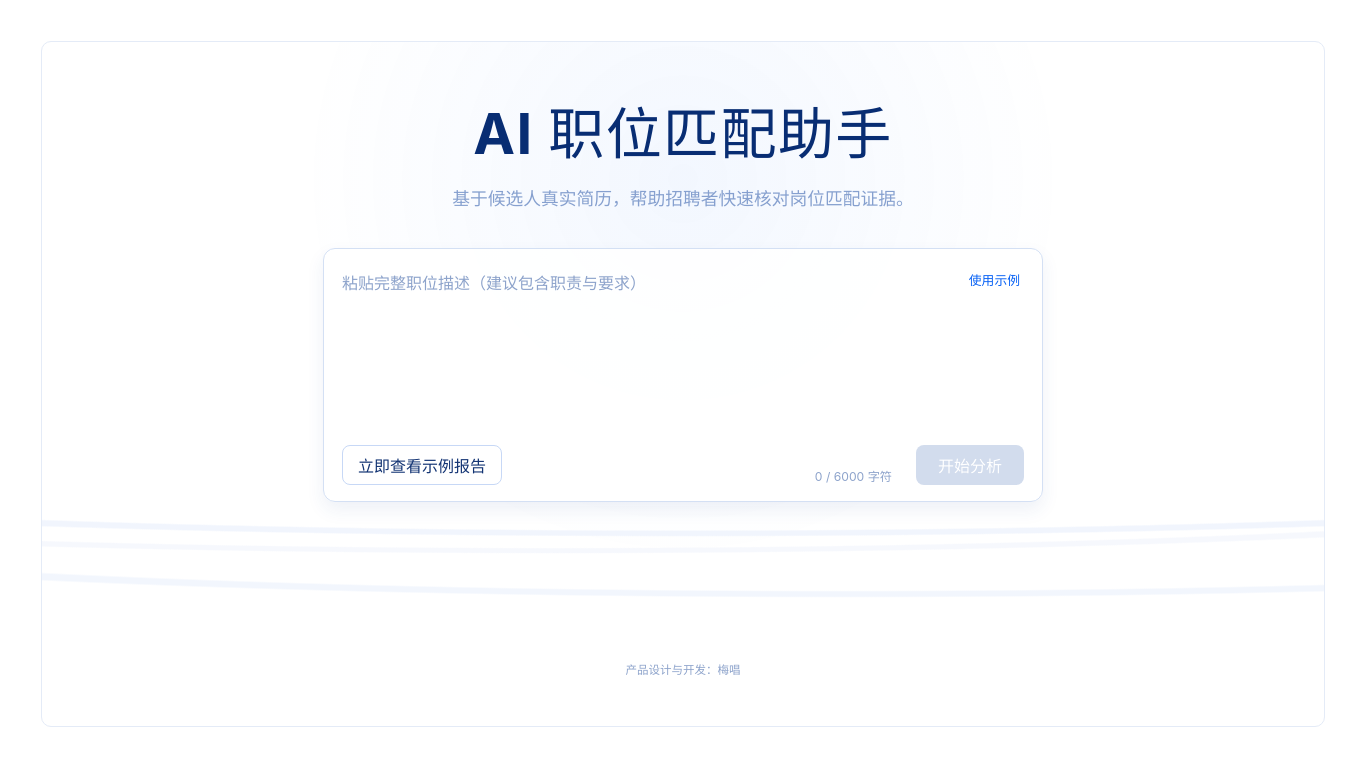
Test case: Goal 4 recruiter workspace › shows a recoverable inline error when feedback cannot be stored
Click the button "使用示例" at (994, 280), box [965, 266, 1024, 293]
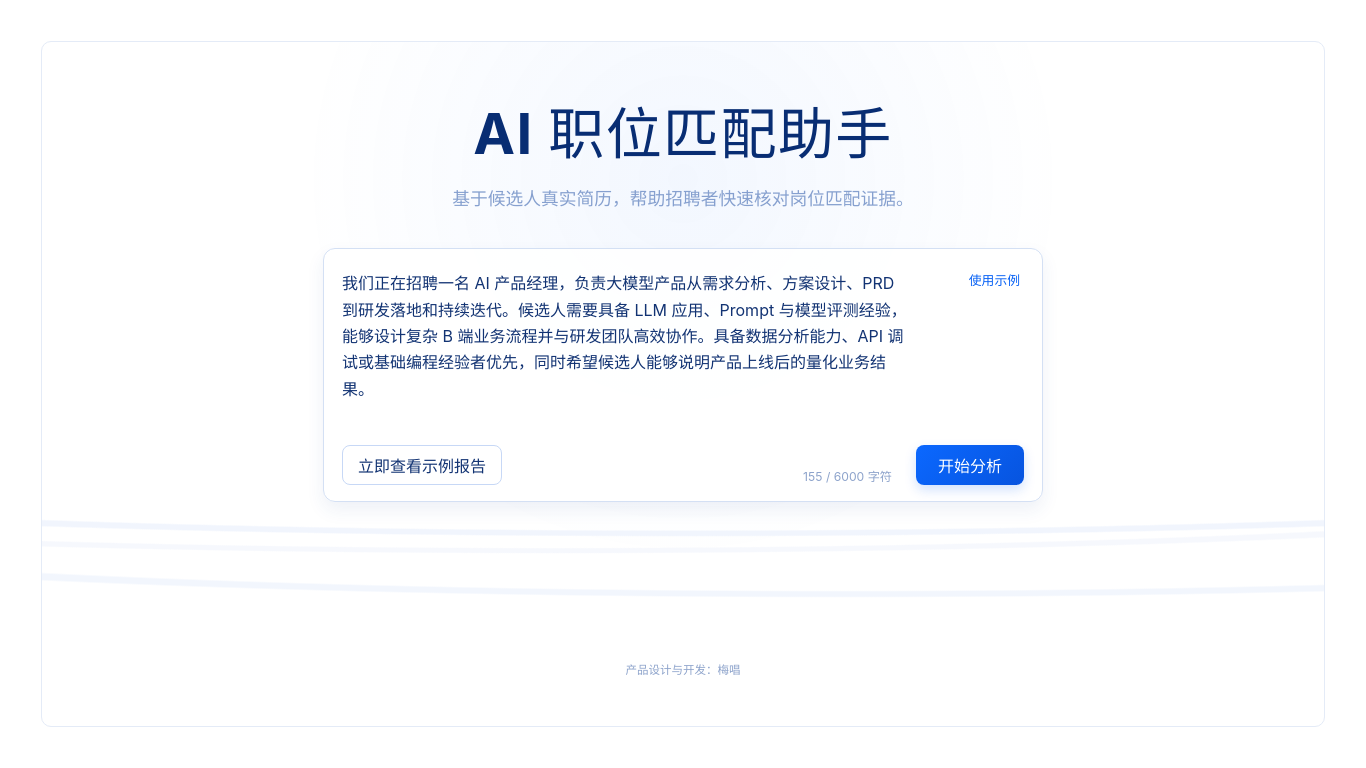
Click the button "开始分析" at (970, 465), box [916, 445, 1024, 485]
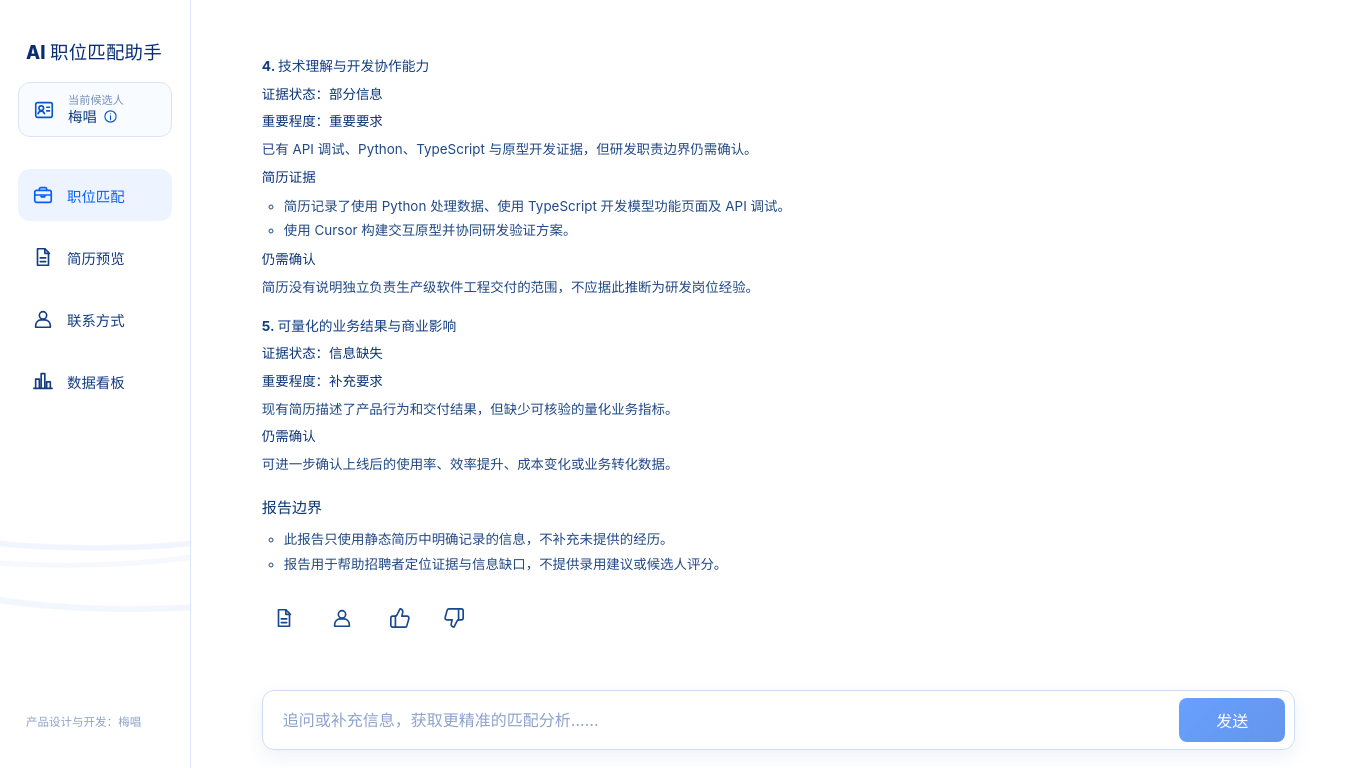
Click the button named "回答有帮助" at (400, 618), box [378, 596, 422, 640]
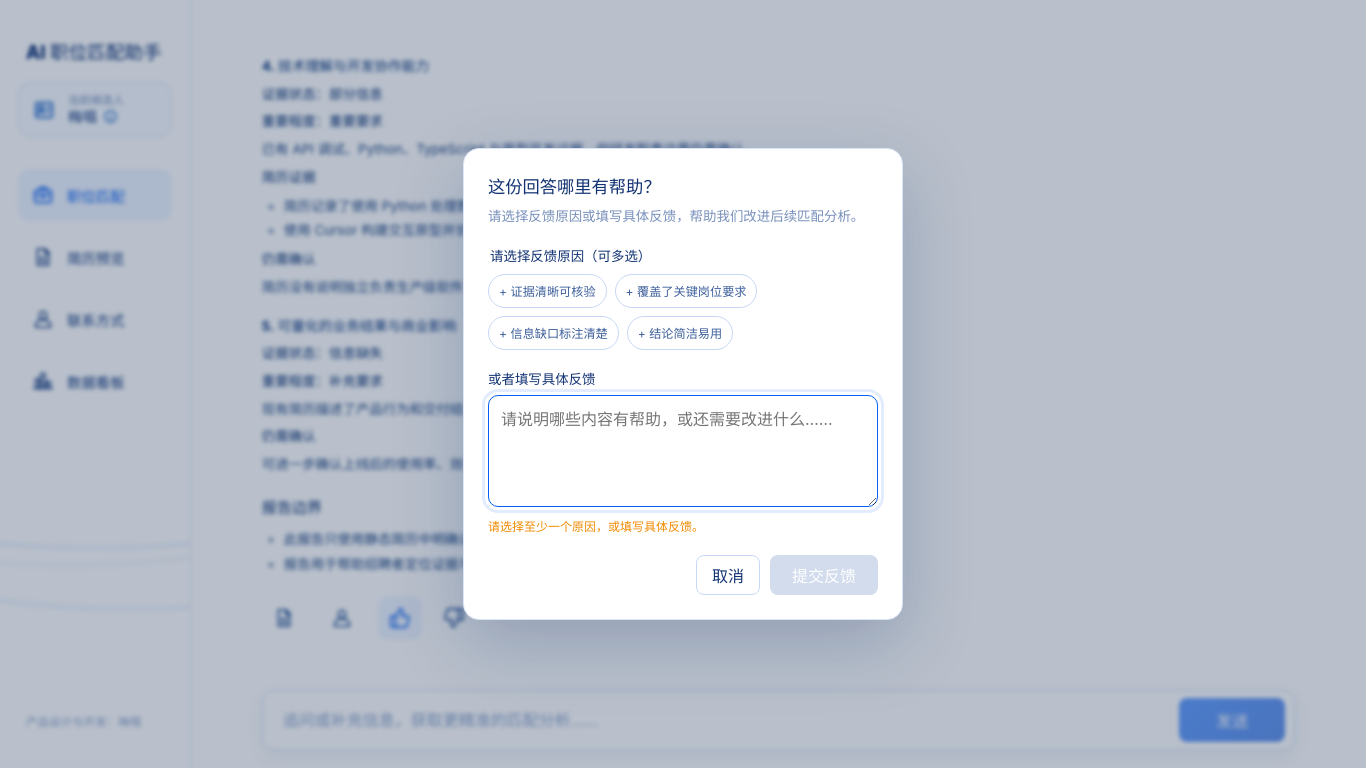
Click the button "+ 证据清晰可核验" at (547, 291), box [488, 274, 607, 308]
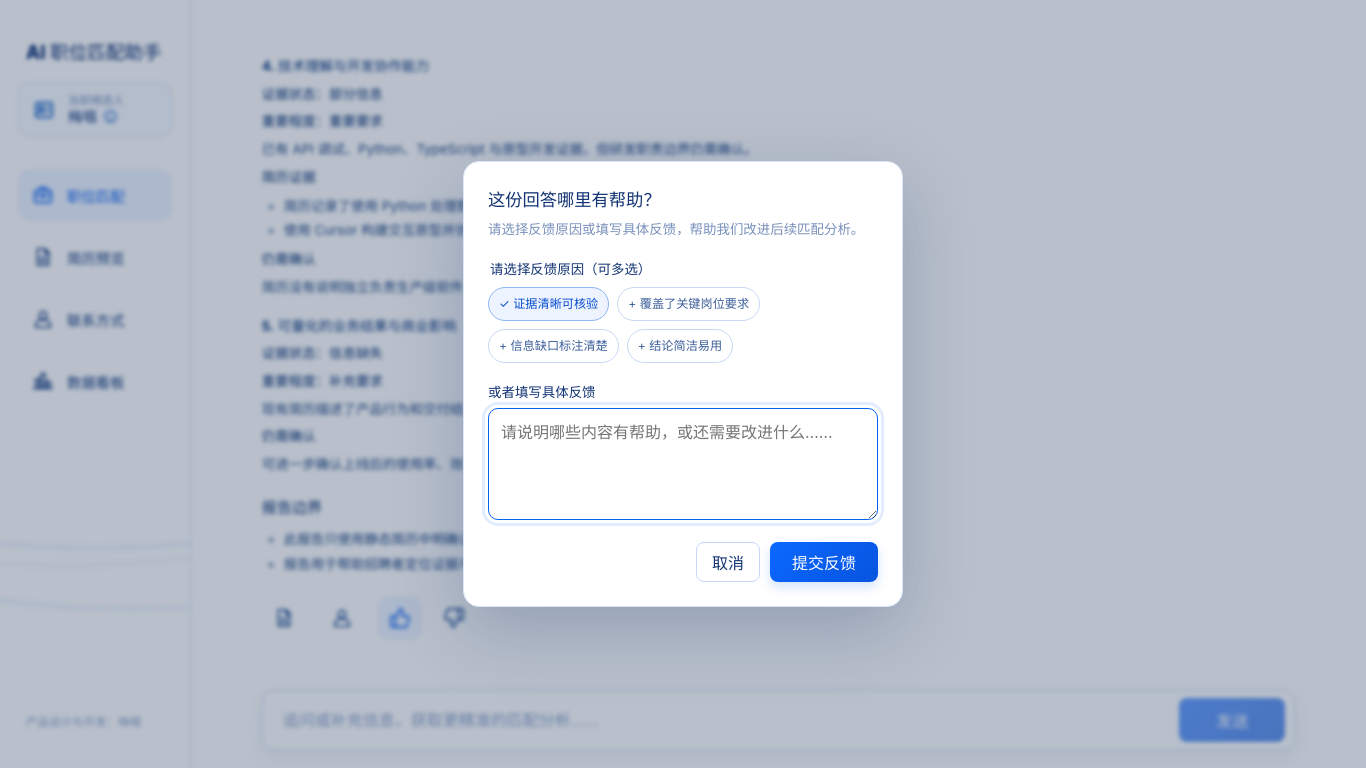
Click the button "提交反馈" at (824, 562), box [770, 542, 878, 582]
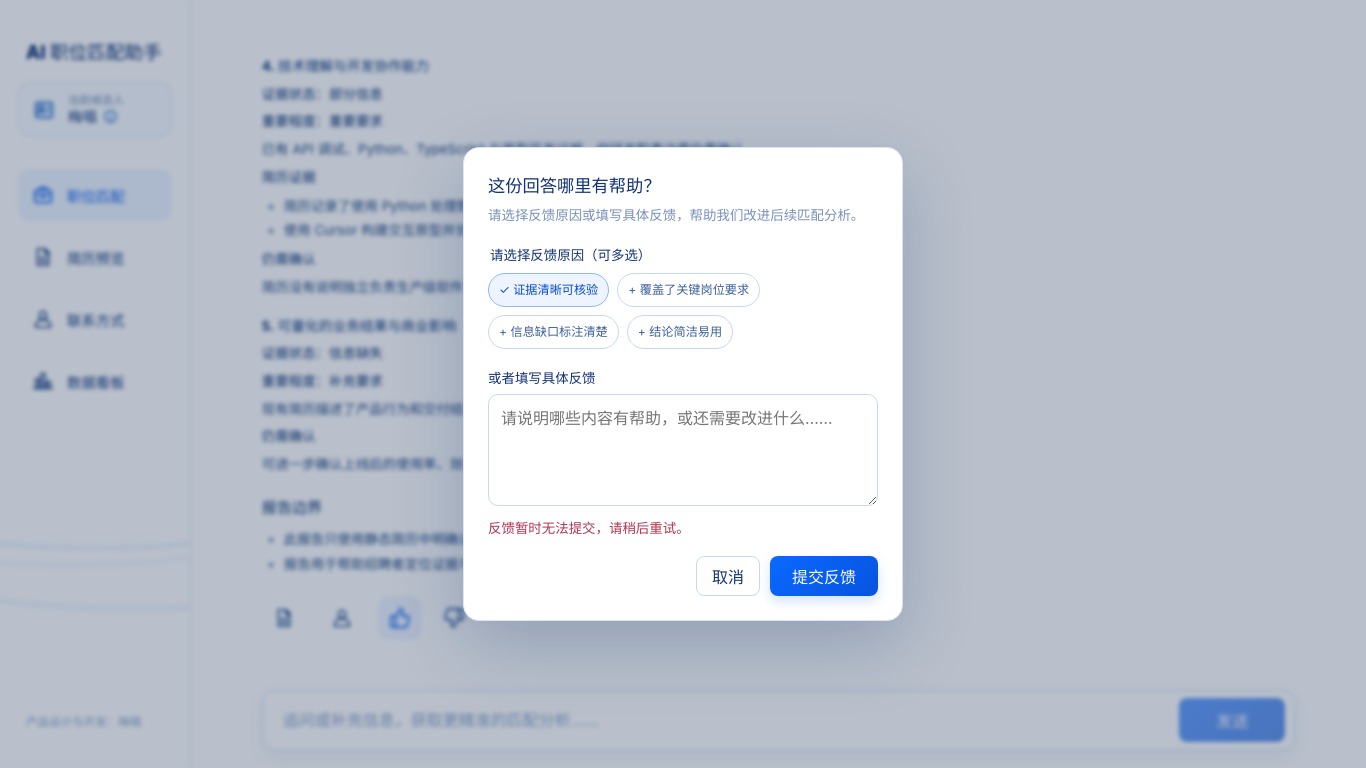
Expected: the button named "回答有帮助" is enabled, [378, 596, 422, 640]
Expected: the text "反馈暂时无法提交，请稍后重试。" is shown, [488, 520, 690, 536]
